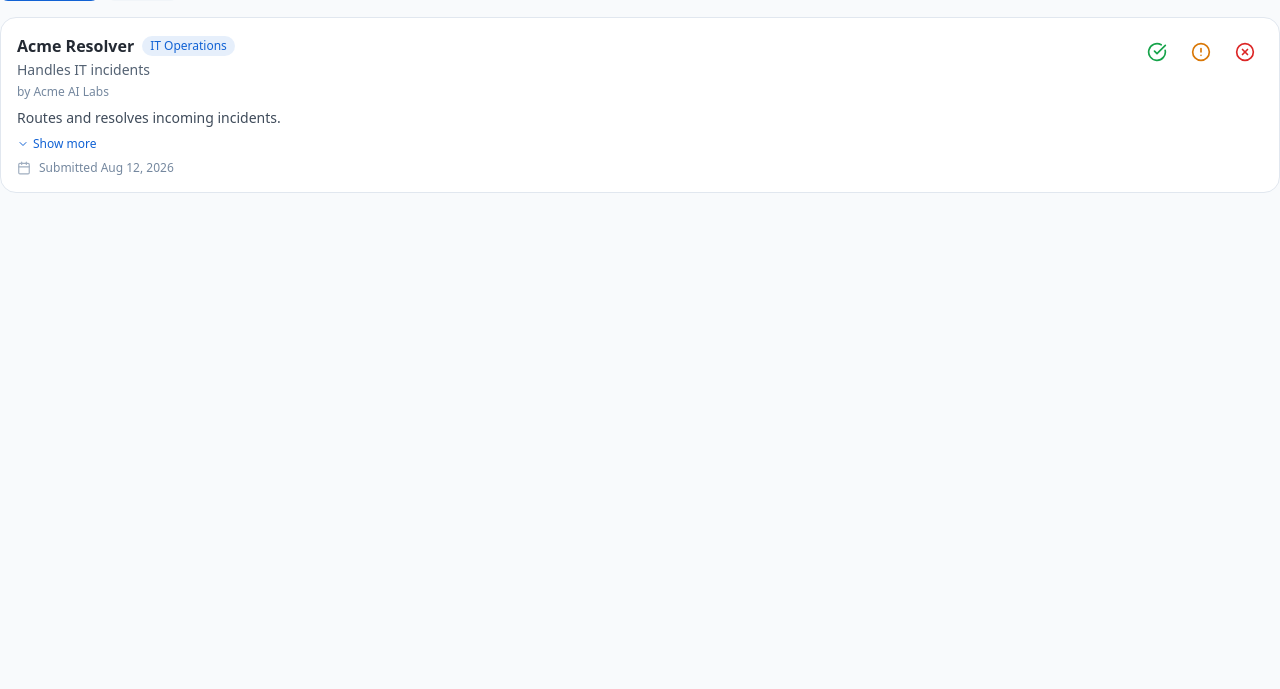
Test: AdminAgentsTab › shows enriched company and full agent detail in the pending review dropdown
Click the button "Show more" at (57, 144), box [17, 136, 96, 152]
(page scrolled)
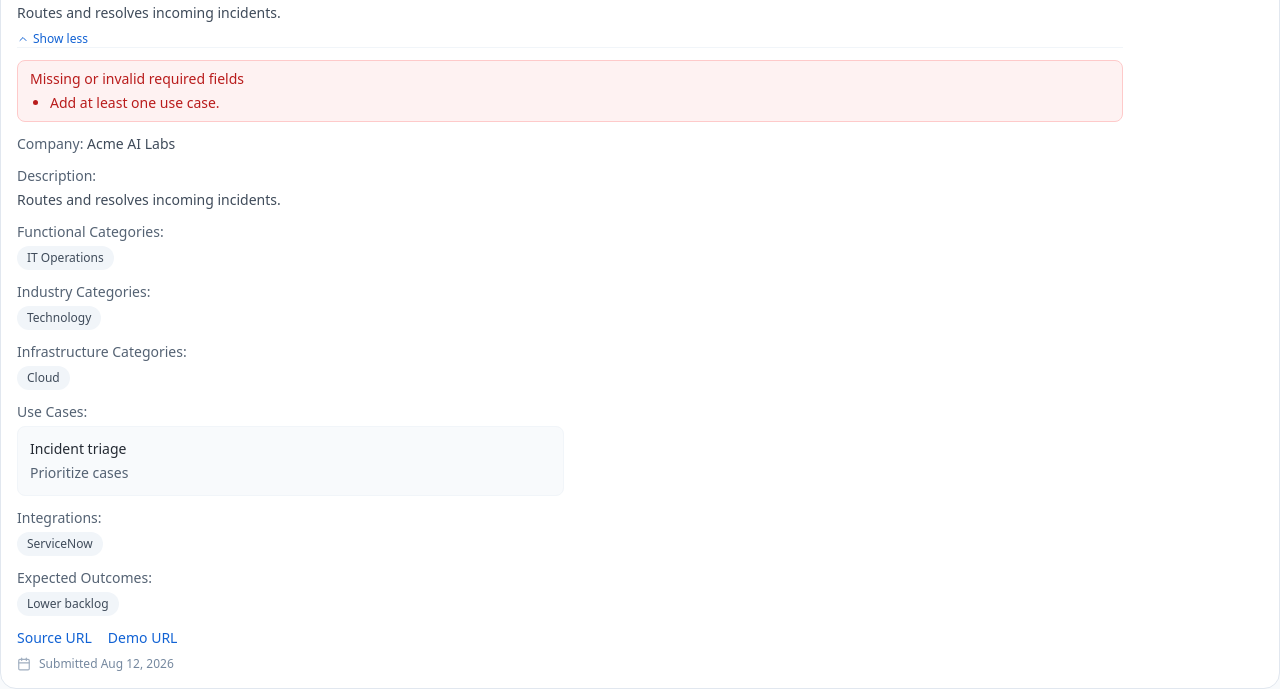
Expected: the text "Acme AI Labs" is shown, [87, 134, 175, 153]
Expected: the text "Industry Categories:" is shown, [17, 282, 150, 301]
Expected: the text "Technology" is shown, [17, 306, 101, 330]
